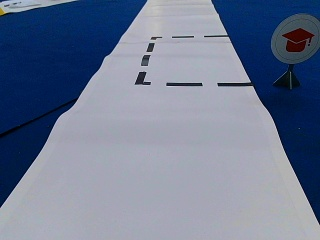school: (271, 14, 318, 63)
